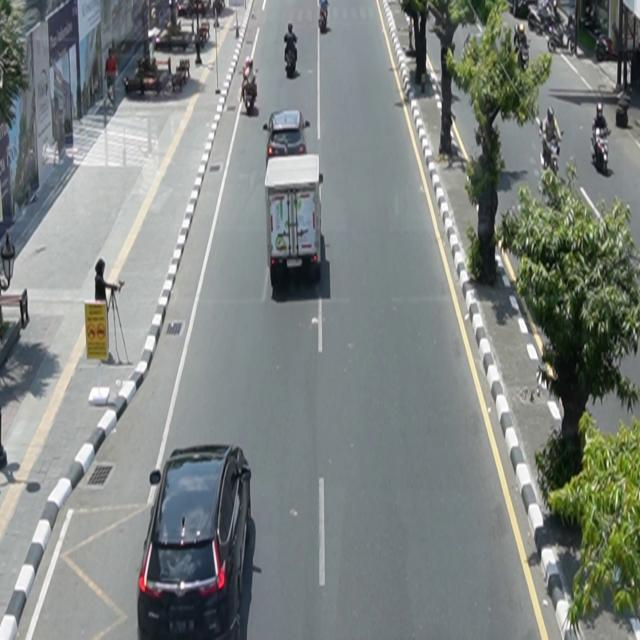car: (138, 444, 253, 640), (263, 110, 311, 168)
truck: (265, 154, 324, 287)
